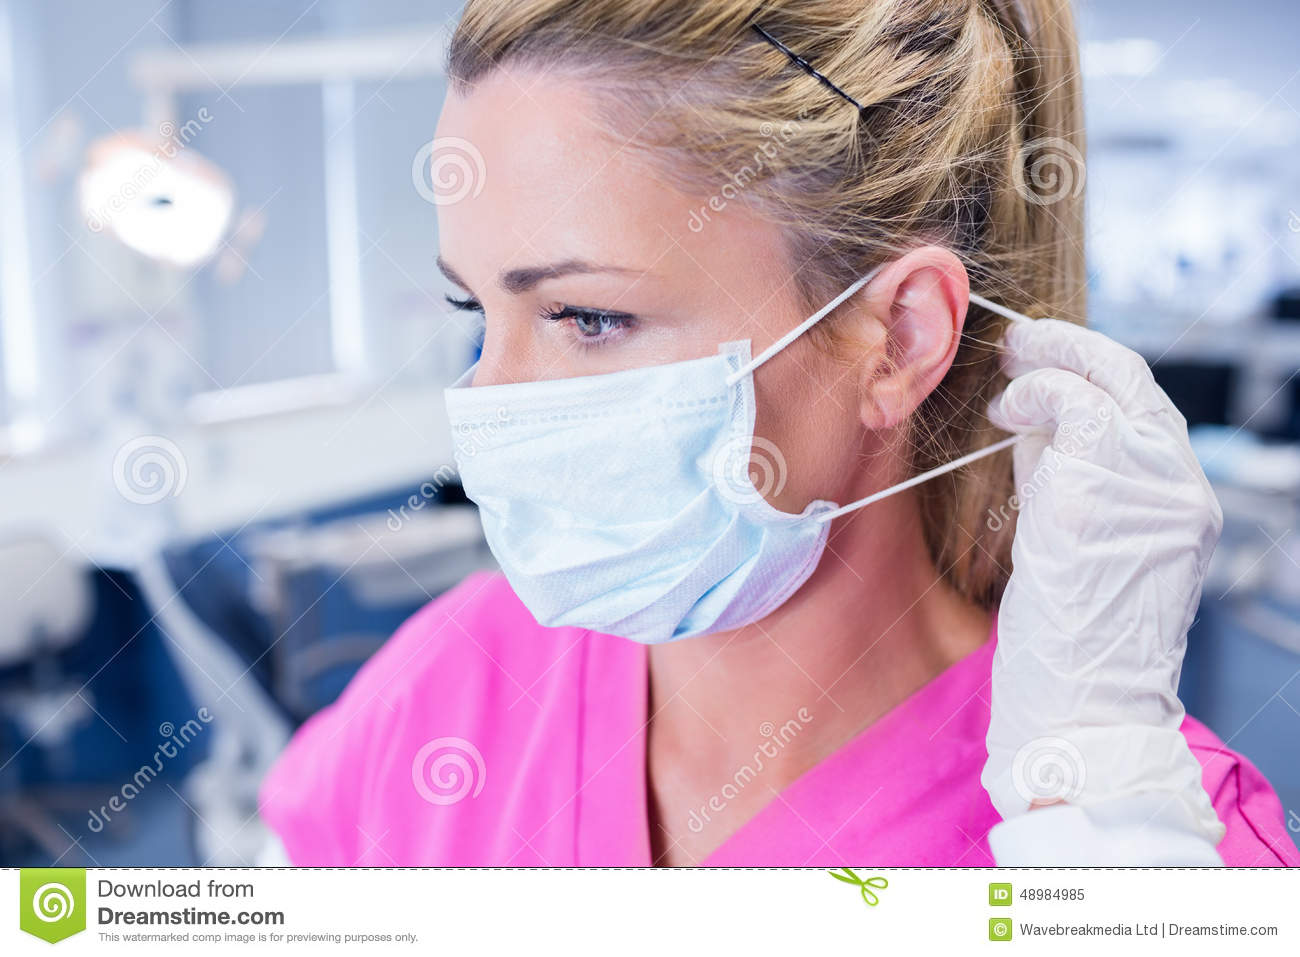mask: (429, 364, 826, 658)
